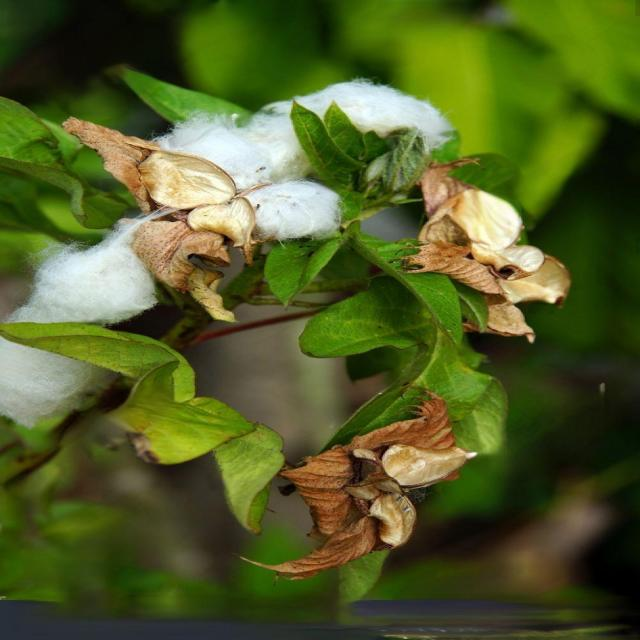Early_blight: (114, 116, 341, 250), (2, 236, 158, 428), (279, 81, 454, 176)
